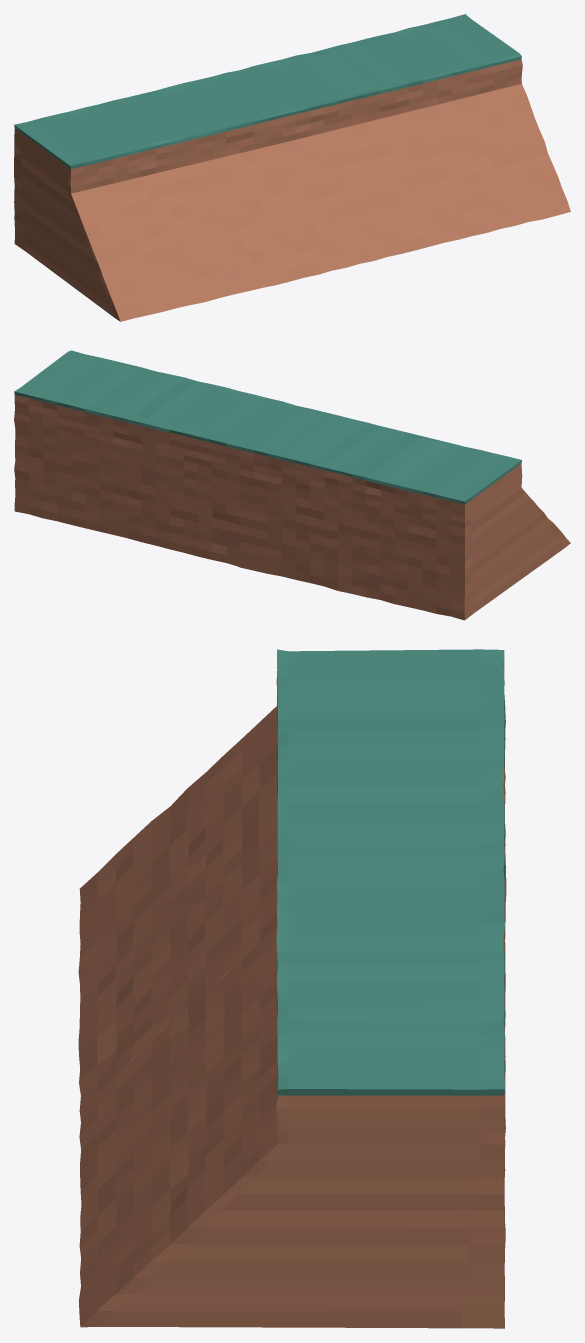
The model's file is Lv3Ground1Flat.fbx.
3 renders of one model, top to bottom at view 1: azimuth 30°, elevation 25°; view 2: azimuth 150°, elevation 25°; view 3: azimuth 270°, elevation 25°, orthographic. The views are drawn at different scales.
Visible parts, largest first — view 1: Lv3Floor1Flat; view 2: Lv3Floor1Flat; view 3: Lv3Floor1Flat.
Part boxes in pixels (box(x1,y1,x2,y2)): Lv3Floor1Flat: box(14, 14, 570, 321); Lv3Floor1Flat: box(14, 350, 570, 620); Lv3Floor1Flat: box(78, 649, 506, 1328).
Bounding box in the file's own units: 15606 × 6407 × 4008.
